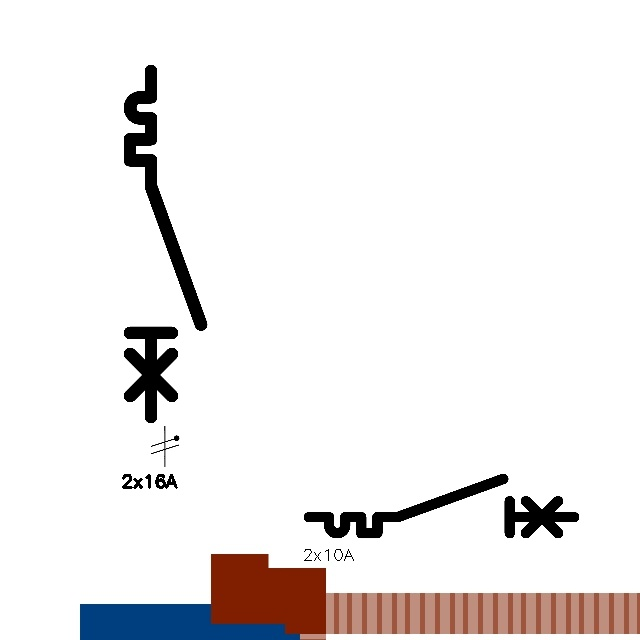interruptor_termomagnetico: (121, 62, 210, 426), (302, 472, 581, 540)
